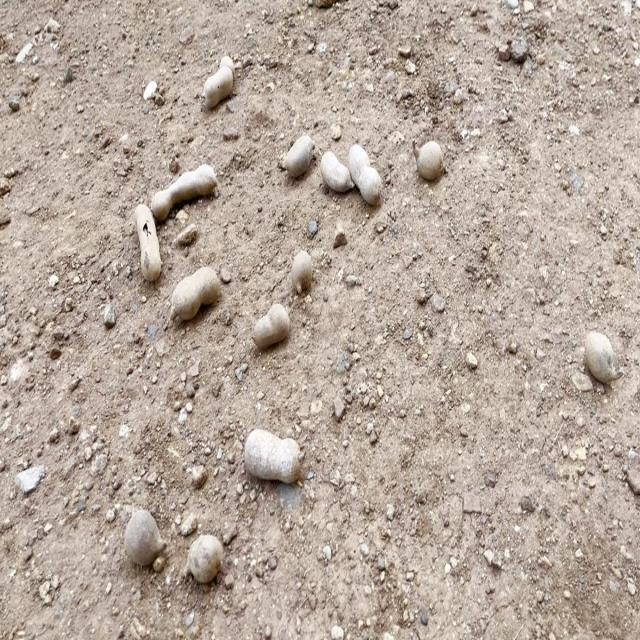tamarind: (150, 163, 222, 217), (114, 506, 168, 572), (245, 426, 305, 479), (160, 268, 224, 316), (580, 317, 624, 386), (192, 53, 242, 111), (130, 195, 160, 282), (180, 528, 228, 582), (347, 137, 383, 203), (402, 130, 450, 178), (251, 301, 291, 351), (322, 148, 354, 190), (286, 132, 313, 170), (293, 248, 313, 292)
